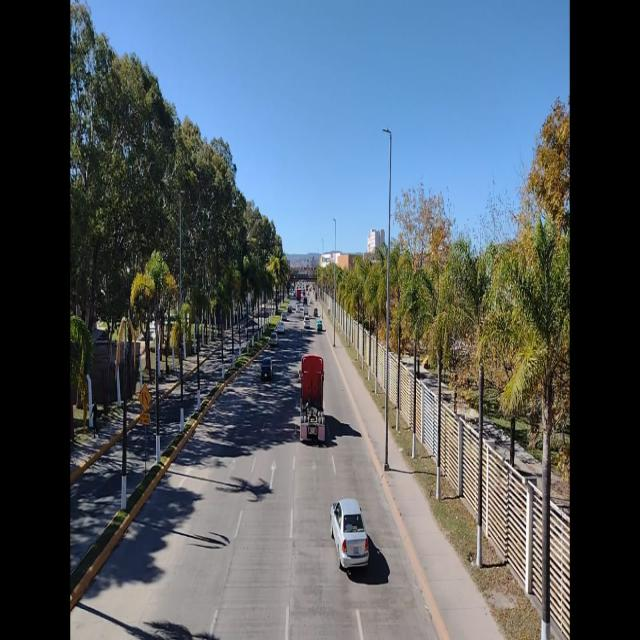Auto: (322, 492, 377, 577), (261, 352, 273, 382), (302, 314, 311, 328), (271, 329, 277, 345), (317, 320, 322, 333), (277, 323, 284, 332), (283, 312, 287, 320)
